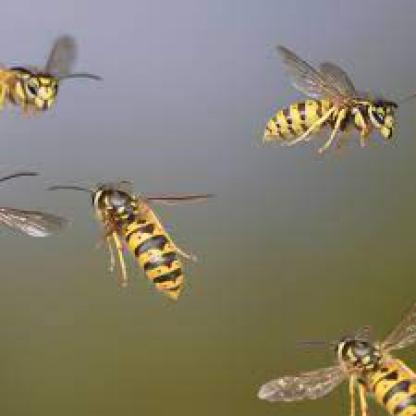other: (63, 174, 209, 318), (258, 40, 414, 170)
